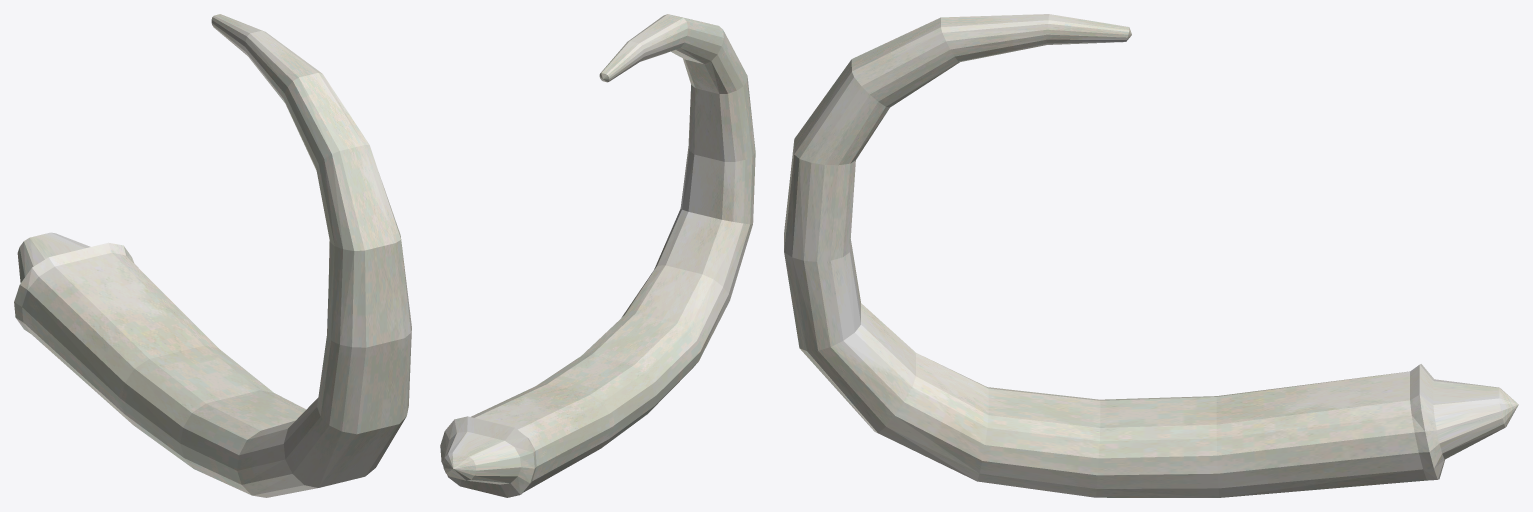
Rendered from stick_b.fbx.
The picture shows the model from 3 angles, left to right: view 1: azimuth 30°, elevation 25°; view 2: azimuth 150°, elevation 25°; view 3: azimuth 270°, elevation 25°; orthographic projection. The views are drawn at different scales.
Visible parts, largest first — view 1: Stick B; view 2: Stick B; view 3: Stick B.
Part boxes in pixels (x1,y1,x2,y2): Stick B: (14,14,411,497); Stick B: (440,14,755,497); Stick B: (784,14,1518,497).
Size of the model in its own units: 272 by 978 by 1401.
1 material, 1 textured.
